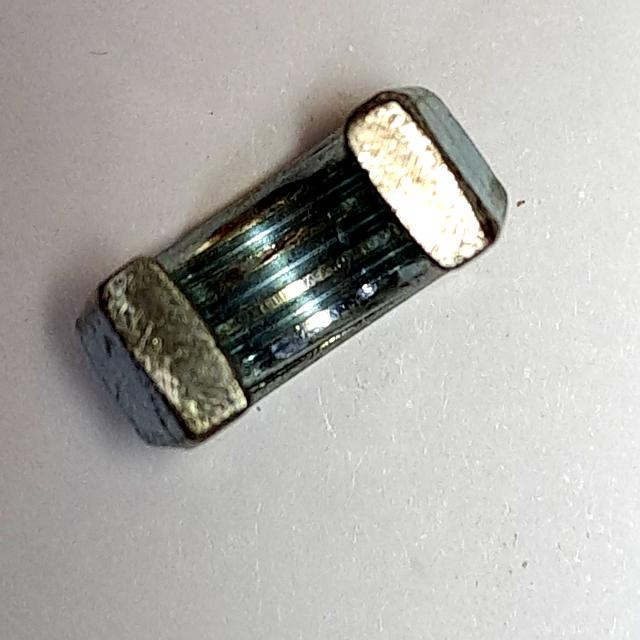Side-Fracture: (64, 70, 521, 467)
